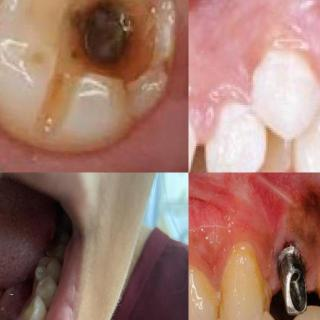cavities: (68, 0, 154, 86)
maligned: (256, 40, 320, 118), (206, 86, 262, 172), (31, 252, 59, 277)
plaque: (224, 255, 270, 319), (204, 285, 224, 317)
